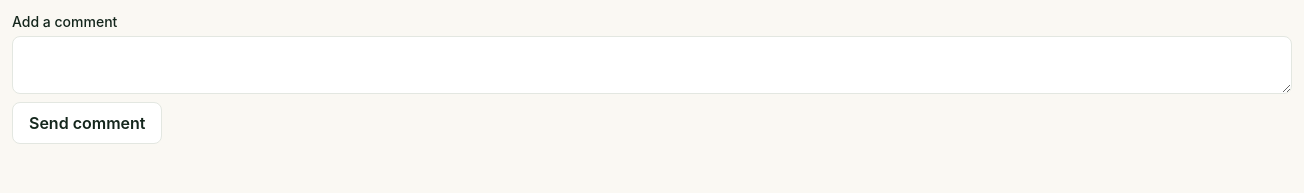
CommentForm › blocks an empty body
The width and height of the screenshot is (1304, 193).
Click the button "Send comment": click(87, 123) [12,102,162,144]
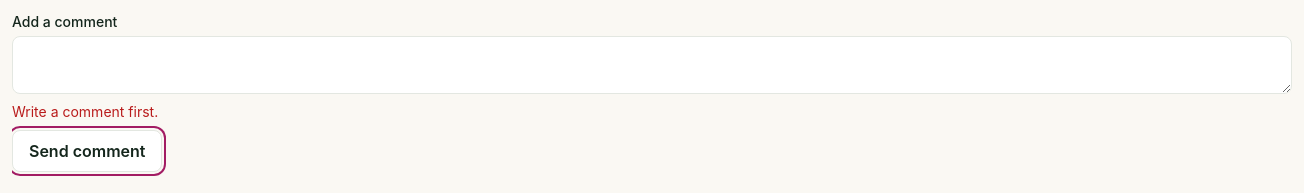
expect the message shows "Write a comment first": met, box [12,103,158,120]
